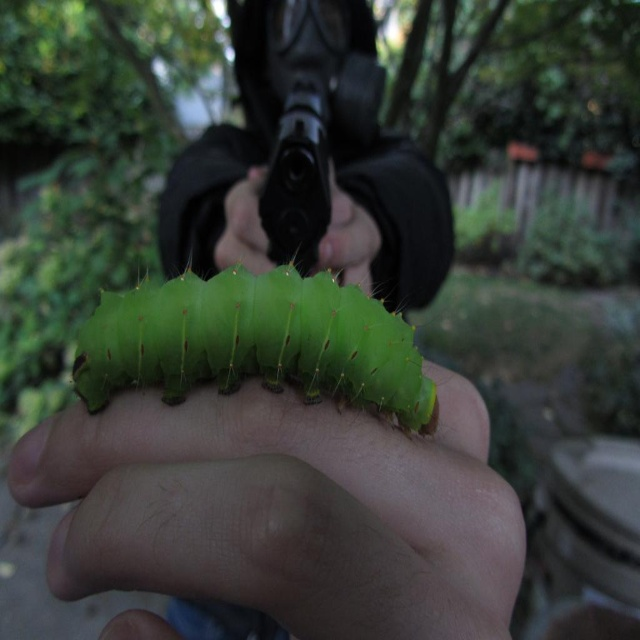Caterpillar: (70, 243, 457, 444)
